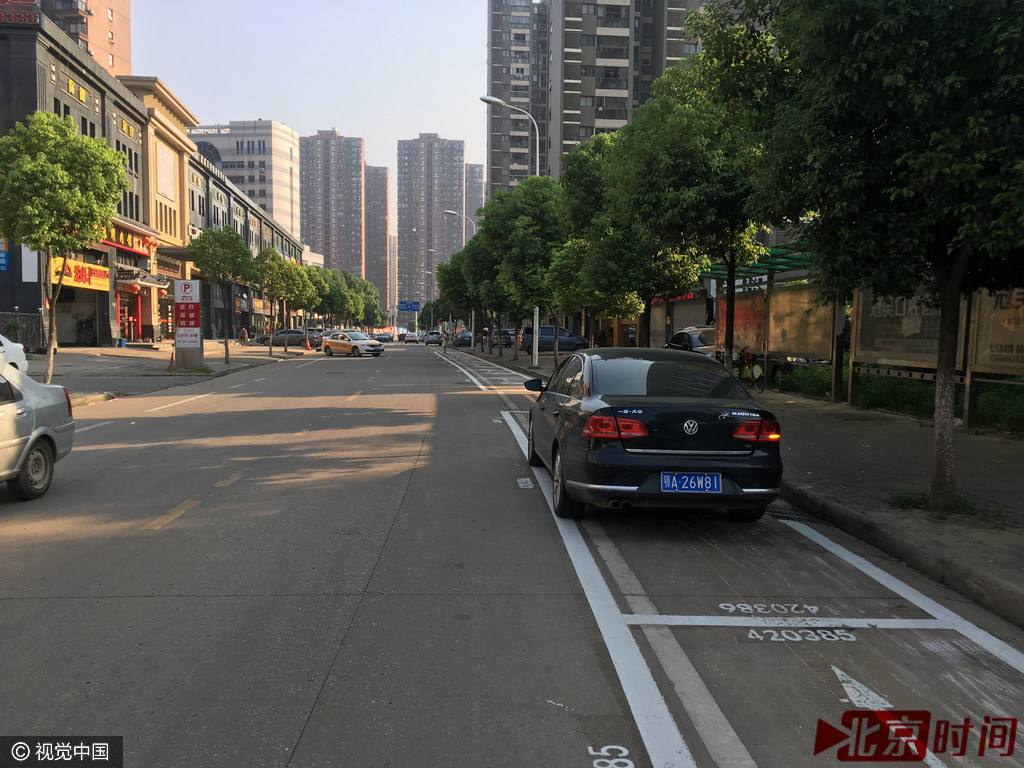slot_nocar: (583, 582, 1024, 766), (431, 330, 555, 399)
